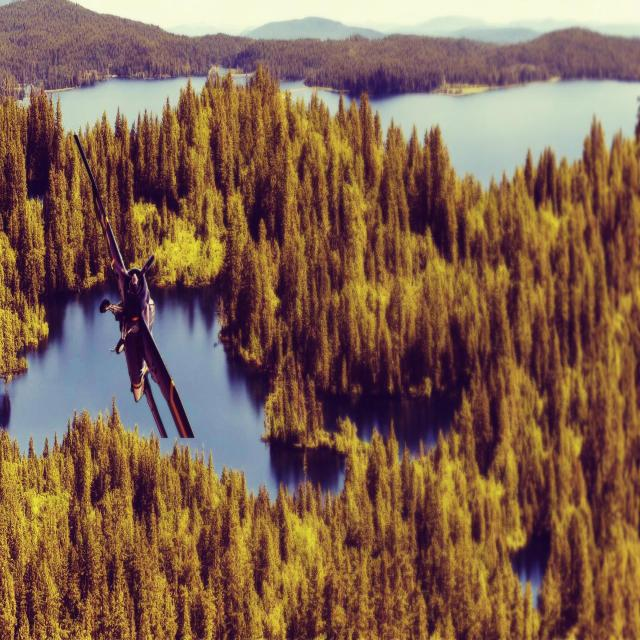airplane: (72, 130, 195, 440)
